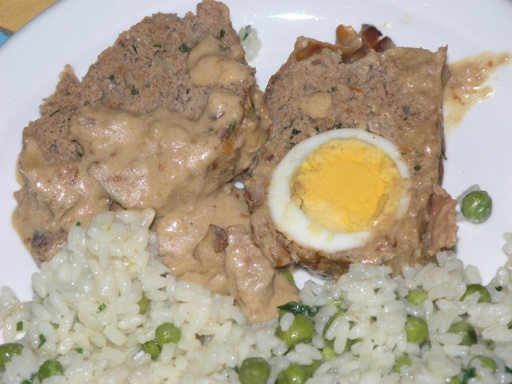background: (0, 0, 410, 230)
